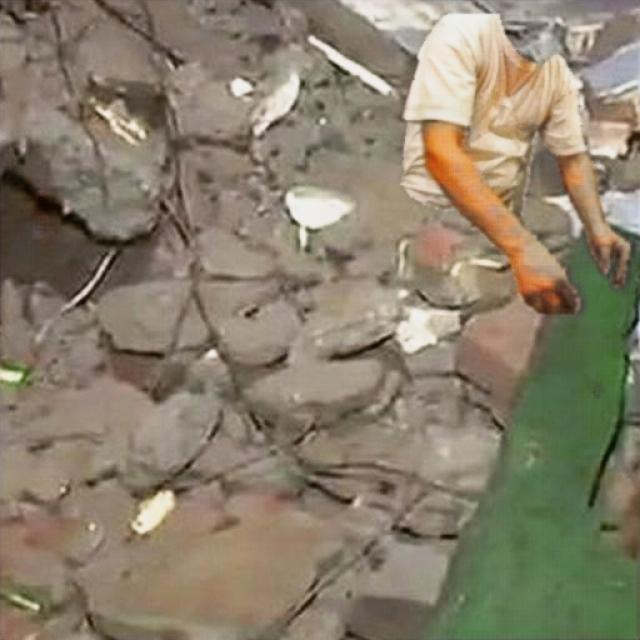Person in Rubble: (400, 14, 629, 312)
